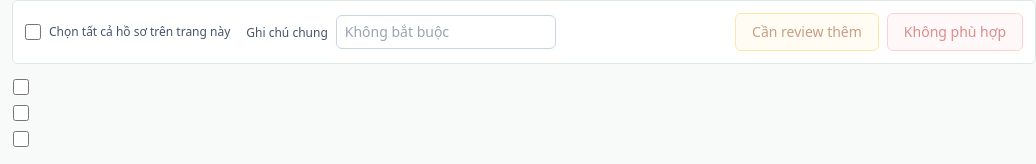
Scenario: bulk selection UX › unchecking select-all clears the visible rows
Click the checkbox with test id "bulk-select-all": (33, 32) left=25, top=24, right=41, bottom=40
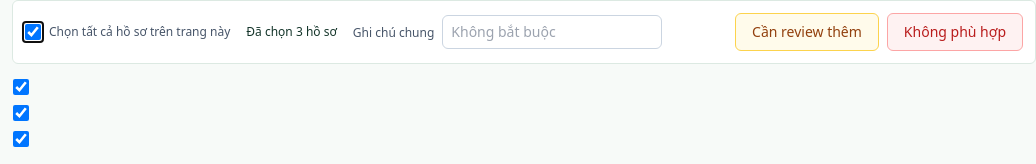
Click the checkbox with test id "bulk-select-all": (33, 32) left=25, top=24, right=41, bottom=40
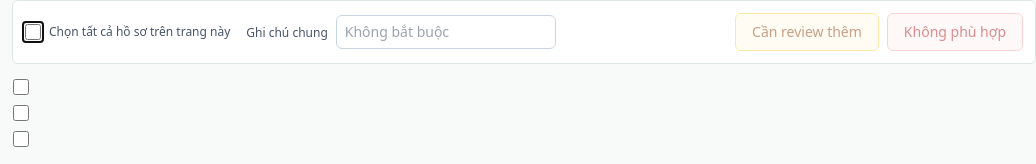
Check: the text with test id "bulk-selected-count" is gone
